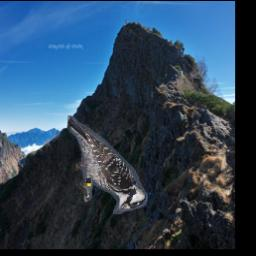Woodpecker: (66, 115, 147, 214)
